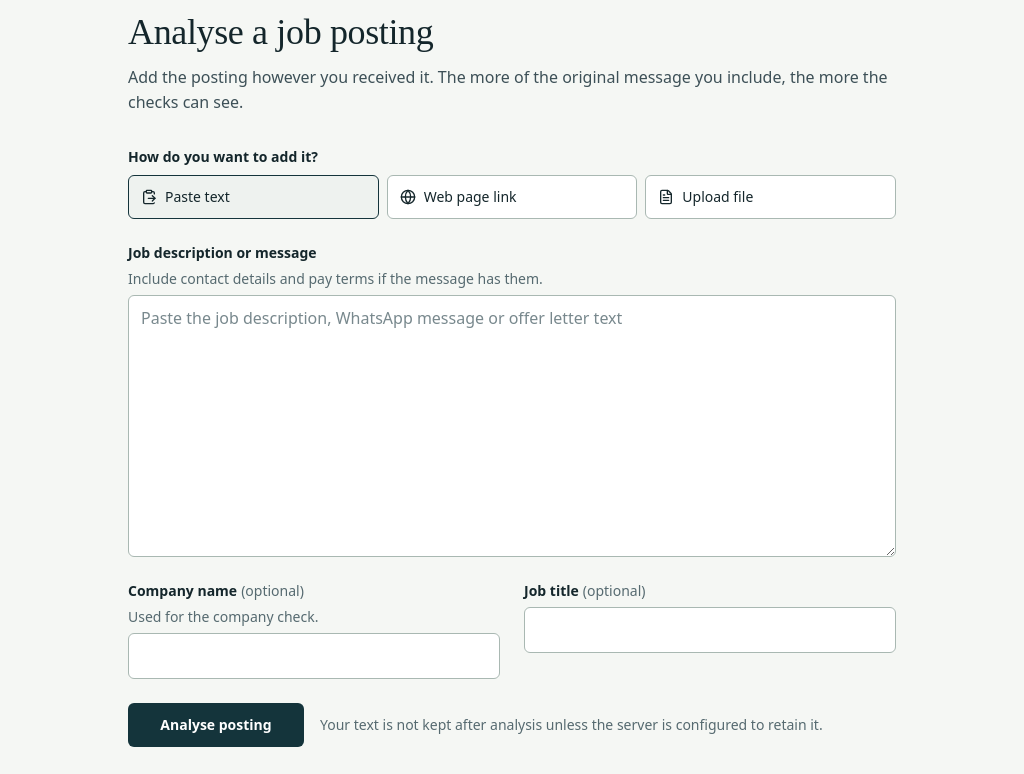
Test: AnalyzePage › maps server field errors back onto the form
The width and height of the screenshot is (1024, 774).
In the text box labelled "Job description or message": (512, 426) [128, 295, 896, 557], type "Urgent hiring! Pay Rs 999 registration fee to join our team today."
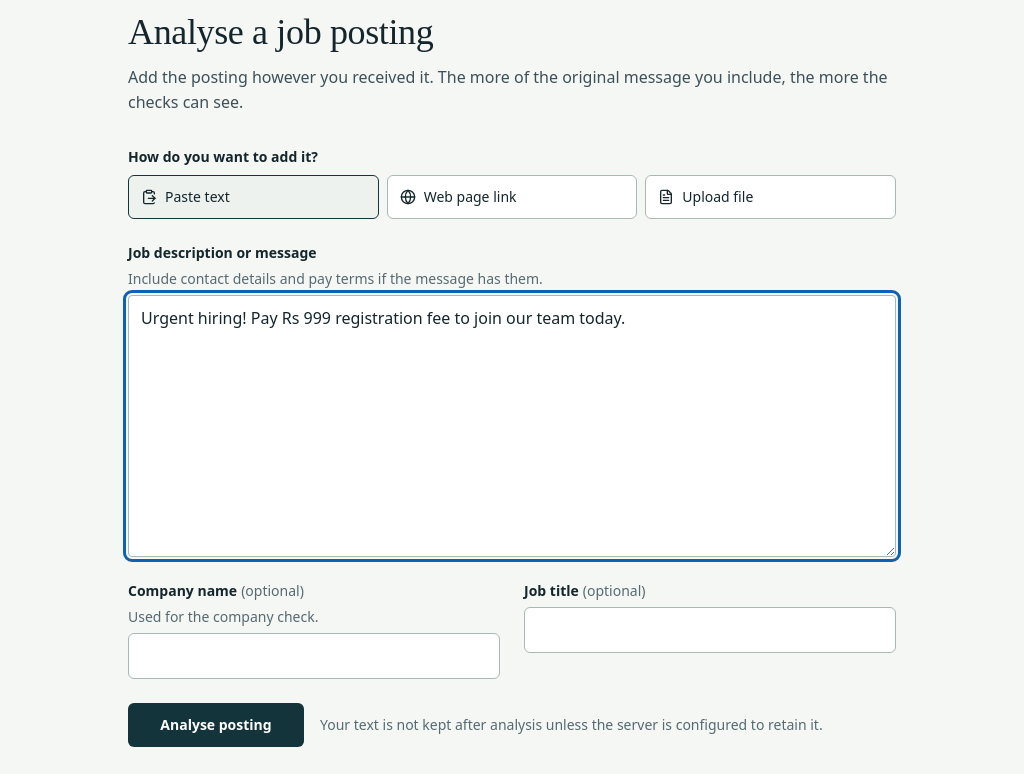
Click the button "Analyse posting": (216, 725) [128, 703, 304, 747]
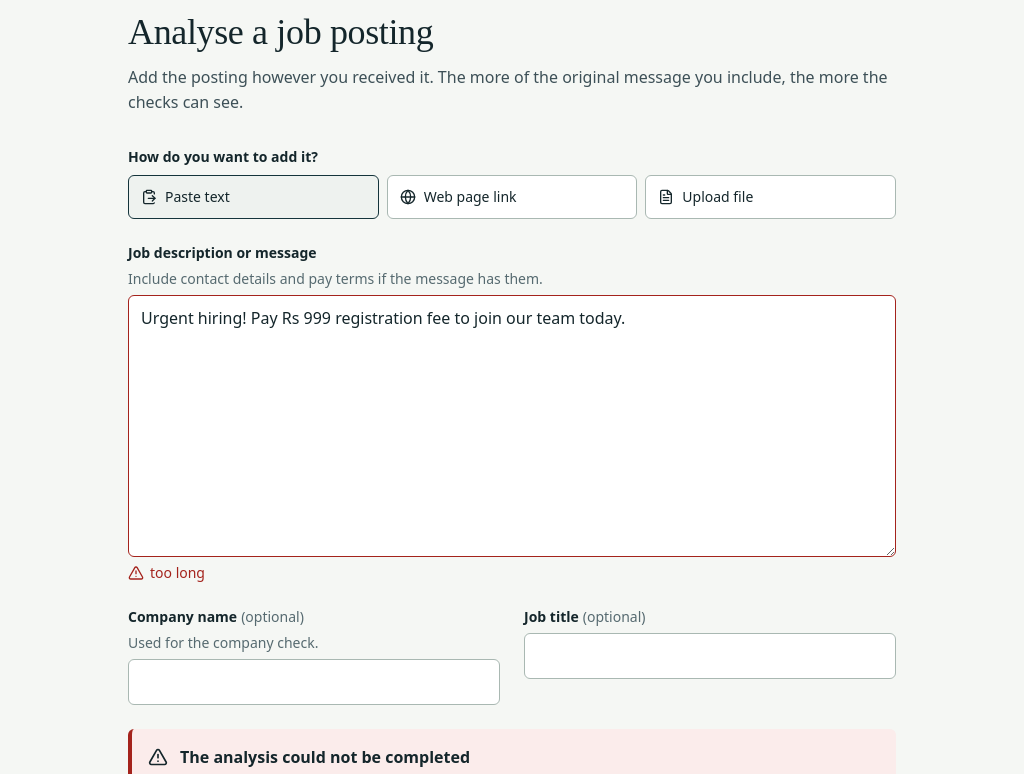
Now the text "too long" is shown, box [128, 563, 205, 582]
